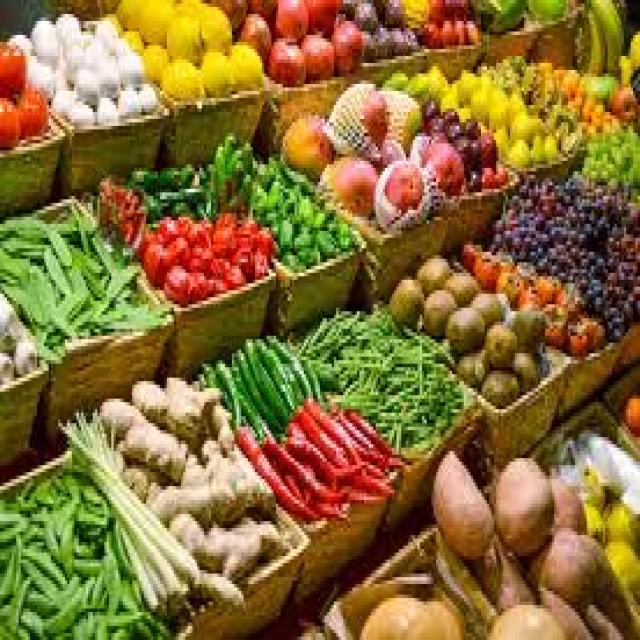biodegradable: (0, 462, 174, 637), (283, 297, 461, 444), (56, 402, 200, 577), (0, 195, 162, 346), (489, 193, 626, 333), (74, 444, 186, 598), (536, 525, 638, 637), (93, 388, 186, 479), (427, 444, 492, 553), (235, 427, 316, 514), (517, 168, 631, 227), (489, 455, 552, 553), (327, 395, 399, 469), (596, 200, 638, 319), (253, 423, 318, 490), (234, 343, 285, 427), (121, 521, 167, 609), (244, 332, 288, 423), (533, 574, 594, 637), (225, 343, 269, 430), (327, 77, 385, 143), (580, 123, 638, 186), (316, 154, 374, 217), (360, 591, 439, 637), (276, 413, 332, 476), (381, 154, 432, 220), (281, 105, 329, 175), (304, 395, 350, 465), (478, 535, 526, 602), (294, 399, 341, 465), (146, 476, 209, 525), (209, 130, 248, 207), (97, 175, 144, 238), (251, 332, 292, 402), (601, 535, 638, 612), (487, 602, 568, 637), (376, 84, 417, 150), (341, 399, 389, 455), (269, 329, 306, 399), (165, 388, 209, 444), (142, 214, 186, 270), (415, 136, 459, 189), (214, 350, 244, 427), (141, 546, 174, 612), (598, 500, 638, 553), (589, 0, 619, 70), (325, 462, 392, 493), (162, 11, 204, 60), (14, 81, 49, 137), (427, 588, 466, 637), (223, 38, 264, 84), (163, 259, 207, 301), (197, 570, 244, 609), (237, 11, 274, 60), (204, 388, 234, 448), (127, 378, 167, 423), (330, 10, 360, 70), (443, 304, 485, 346), (390, 273, 425, 322), (179, 210, 214, 259), (134, 0, 174, 42), (318, 472, 385, 497), (160, 56, 204, 94), (197, 42, 234, 87), (580, 7, 605, 73), (169, 507, 202, 556), (582, 602, 628, 637), (422, 283, 457, 329), (267, 31, 302, 77), (578, 458, 619, 497), (230, 444, 255, 507), (508, 297, 540, 346), (473, 0, 529, 28), (299, 21, 329, 73), (225, 518, 262, 560), (230, 213, 269, 252), (197, 0, 245, 31), (508, 343, 547, 381), (121, 455, 160, 493), (297, 343, 322, 402), (279, 185, 316, 224), (302, 486, 343, 521), (0, 38, 23, 98), (202, 256, 241, 291), (304, 0, 343, 35), (276, 164, 318, 196), (605, 80, 638, 119), (30, 14, 56, 63), (485, 318, 515, 360), (529, 59, 561, 98), (276, 346, 301, 395), (253, 511, 281, 553), (9, 325, 37, 367), (0, 88, 21, 144), (617, 28, 638, 84), (418, 248, 448, 287), (0, 290, 19, 350), (56, 7, 79, 56), (174, 451, 206, 486), (274, 0, 306, 35), (46, 0, 111, 17), (464, 287, 499, 318), (341, 0, 376, 31), (163, 371, 207, 395), (235, 245, 265, 280), (480, 371, 517, 399), (353, 448, 388, 476), (200, 525, 228, 560), (253, 151, 281, 186), (251, 465, 274, 507), (211, 206, 232, 252), (388, 21, 418, 52), (362, 21, 392, 52), (142, 42, 172, 73), (445, 270, 478, 298), (468, 245, 494, 280), (580, 500, 603, 539), (74, 56, 95, 98), (543, 304, 568, 339), (91, 14, 114, 52), (485, 84, 508, 122), (114, 84, 142, 115), (404, 63, 432, 94), (550, 105, 578, 136), (28, 60, 58, 88), (51, 80, 77, 112), (313, 220, 339, 252), (512, 283, 545, 308), (116, 45, 137, 84), (476, 129, 497, 168), (95, 56, 118, 91), (262, 172, 281, 214), (492, 266, 520, 294), (246, 0, 274, 28), (216, 546, 241, 577), (200, 353, 221, 388), (155, 158, 181, 186), (111, 0, 137, 28), (457, 350, 487, 374), (457, 238, 482, 266), (128, 164, 156, 189), (559, 123, 584, 151), (622, 388, 638, 430), (135, 80, 156, 112), (274, 207, 290, 249), (401, 0, 429, 24), (468, 88, 487, 123), (526, 0, 565, 17), (566, 315, 587, 346), (580, 311, 603, 339), (7, 28, 30, 56), (506, 109, 529, 137), (374, 0, 404, 21), (383, 63, 408, 87), (438, 0, 473, 17), (591, 63, 610, 94), (93, 91, 114, 119), (292, 238, 313, 266), (137, 189, 158, 217), (455, 129, 473, 161), (536, 269, 559, 294), (559, 283, 582, 308), (446, 74, 462, 109), (156, 182, 179, 206), (192, 434, 218, 455), (67, 98, 93, 119), (429, 56, 443, 94), (459, 67, 478, 95), (515, 255, 536, 280), (425, 112, 446, 136), (281, 242, 299, 270), (506, 137, 529, 158), (418, 21, 441, 42), (0, 346, 14, 378), (251, 178, 265, 210), (506, 84, 522, 112), (492, 119, 508, 147), (288, 221, 309, 242), (121, 25, 142, 46), (179, 182, 204, 199), (174, 0, 204, 14), (548, 66, 564, 91), (420, 95, 438, 116), (329, 220, 350, 238), (457, 98, 475, 119), (559, 67, 577, 88), (109, 31, 123, 56), (170, 193, 186, 214), (529, 133, 543, 157), (591, 98, 603, 126), (459, 112, 478, 129), (531, 108, 543, 133), (278, 518, 292, 539), (77, 25, 91, 46), (441, 18, 455, 39), (58, 59, 74, 77), (543, 129, 554, 154), (478, 63, 494, 80), (561, 95, 580, 109), (464, 164, 478, 182), (441, 105, 459, 119), (452, 17, 462, 42), (464, 21, 478, 38), (426, 0, 440, 17), (179, 154, 190, 175), (473, 136, 482, 161), (582, 94, 591, 119), (313, 364, 329, 378), (480, 164, 492, 182), (445, 119, 457, 136), (577, 70, 589, 87), (536, 59, 554, 70), (494, 248, 510, 259), (490, 168, 506, 178)
